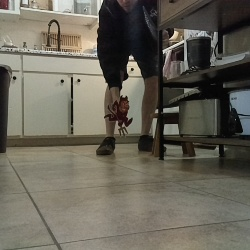sparky: (103, 94, 133, 139)
